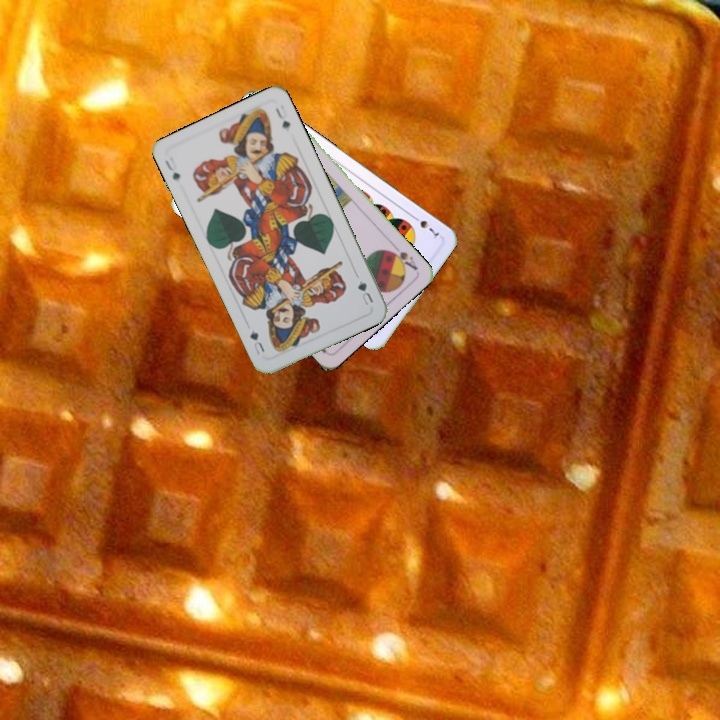GU: (354, 276, 376, 308), (161, 153, 183, 183)
S7: (408, 211, 442, 241)
SA: (384, 240, 420, 273)
